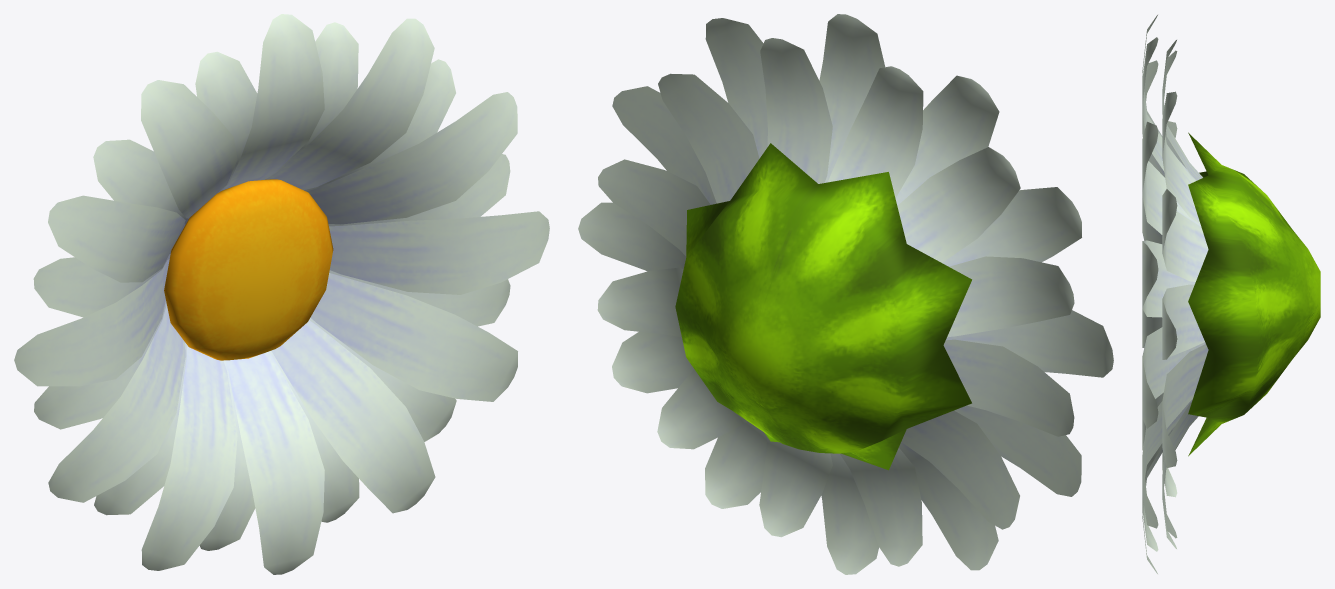
File: white daisy.fbx
The picture shows the model from 3 angles, left to right: view 1: azimuth 30°, elevation 25°; view 2: azimuth 150°, elevation 25°; view 3: azimuth 270°, elevation 25°; orthographic projection. The views are drawn at different scales.
Visible parts, largest first — view 1: white daisy.petal.001, white daisy.petal, white daisy.face; view 2: white daisy.petal, white daisy.head, white daisy.petal.001; view 3: white daisy.head, white daisy.petal, white daisy.petal.001.
Boxes of the visible parts, left/top/right/bottom form: white daisy.petal.001: left=14, top=14, right=549, bottom=574; white daisy.petal: left=33, top=22, right=510, bottom=550; white daisy.face: left=164, top=179, right=333, bottom=360; white daisy.petal: left=597, top=38, right=1074, bottom=566; white daisy.head: left=675, top=143, right=971, bottom=470; white daisy.petal.001: left=578, top=14, right=1113, bottom=574; white daisy.head: left=1188, top=132, right=1320, bottom=456; white daisy.petal: left=1162, top=40, right=1208, bottom=548; white daisy.petal.001: left=1142, top=15, right=1205, bottom=573.
Bounding box in the file's own units: 429 × 429 × 136.
